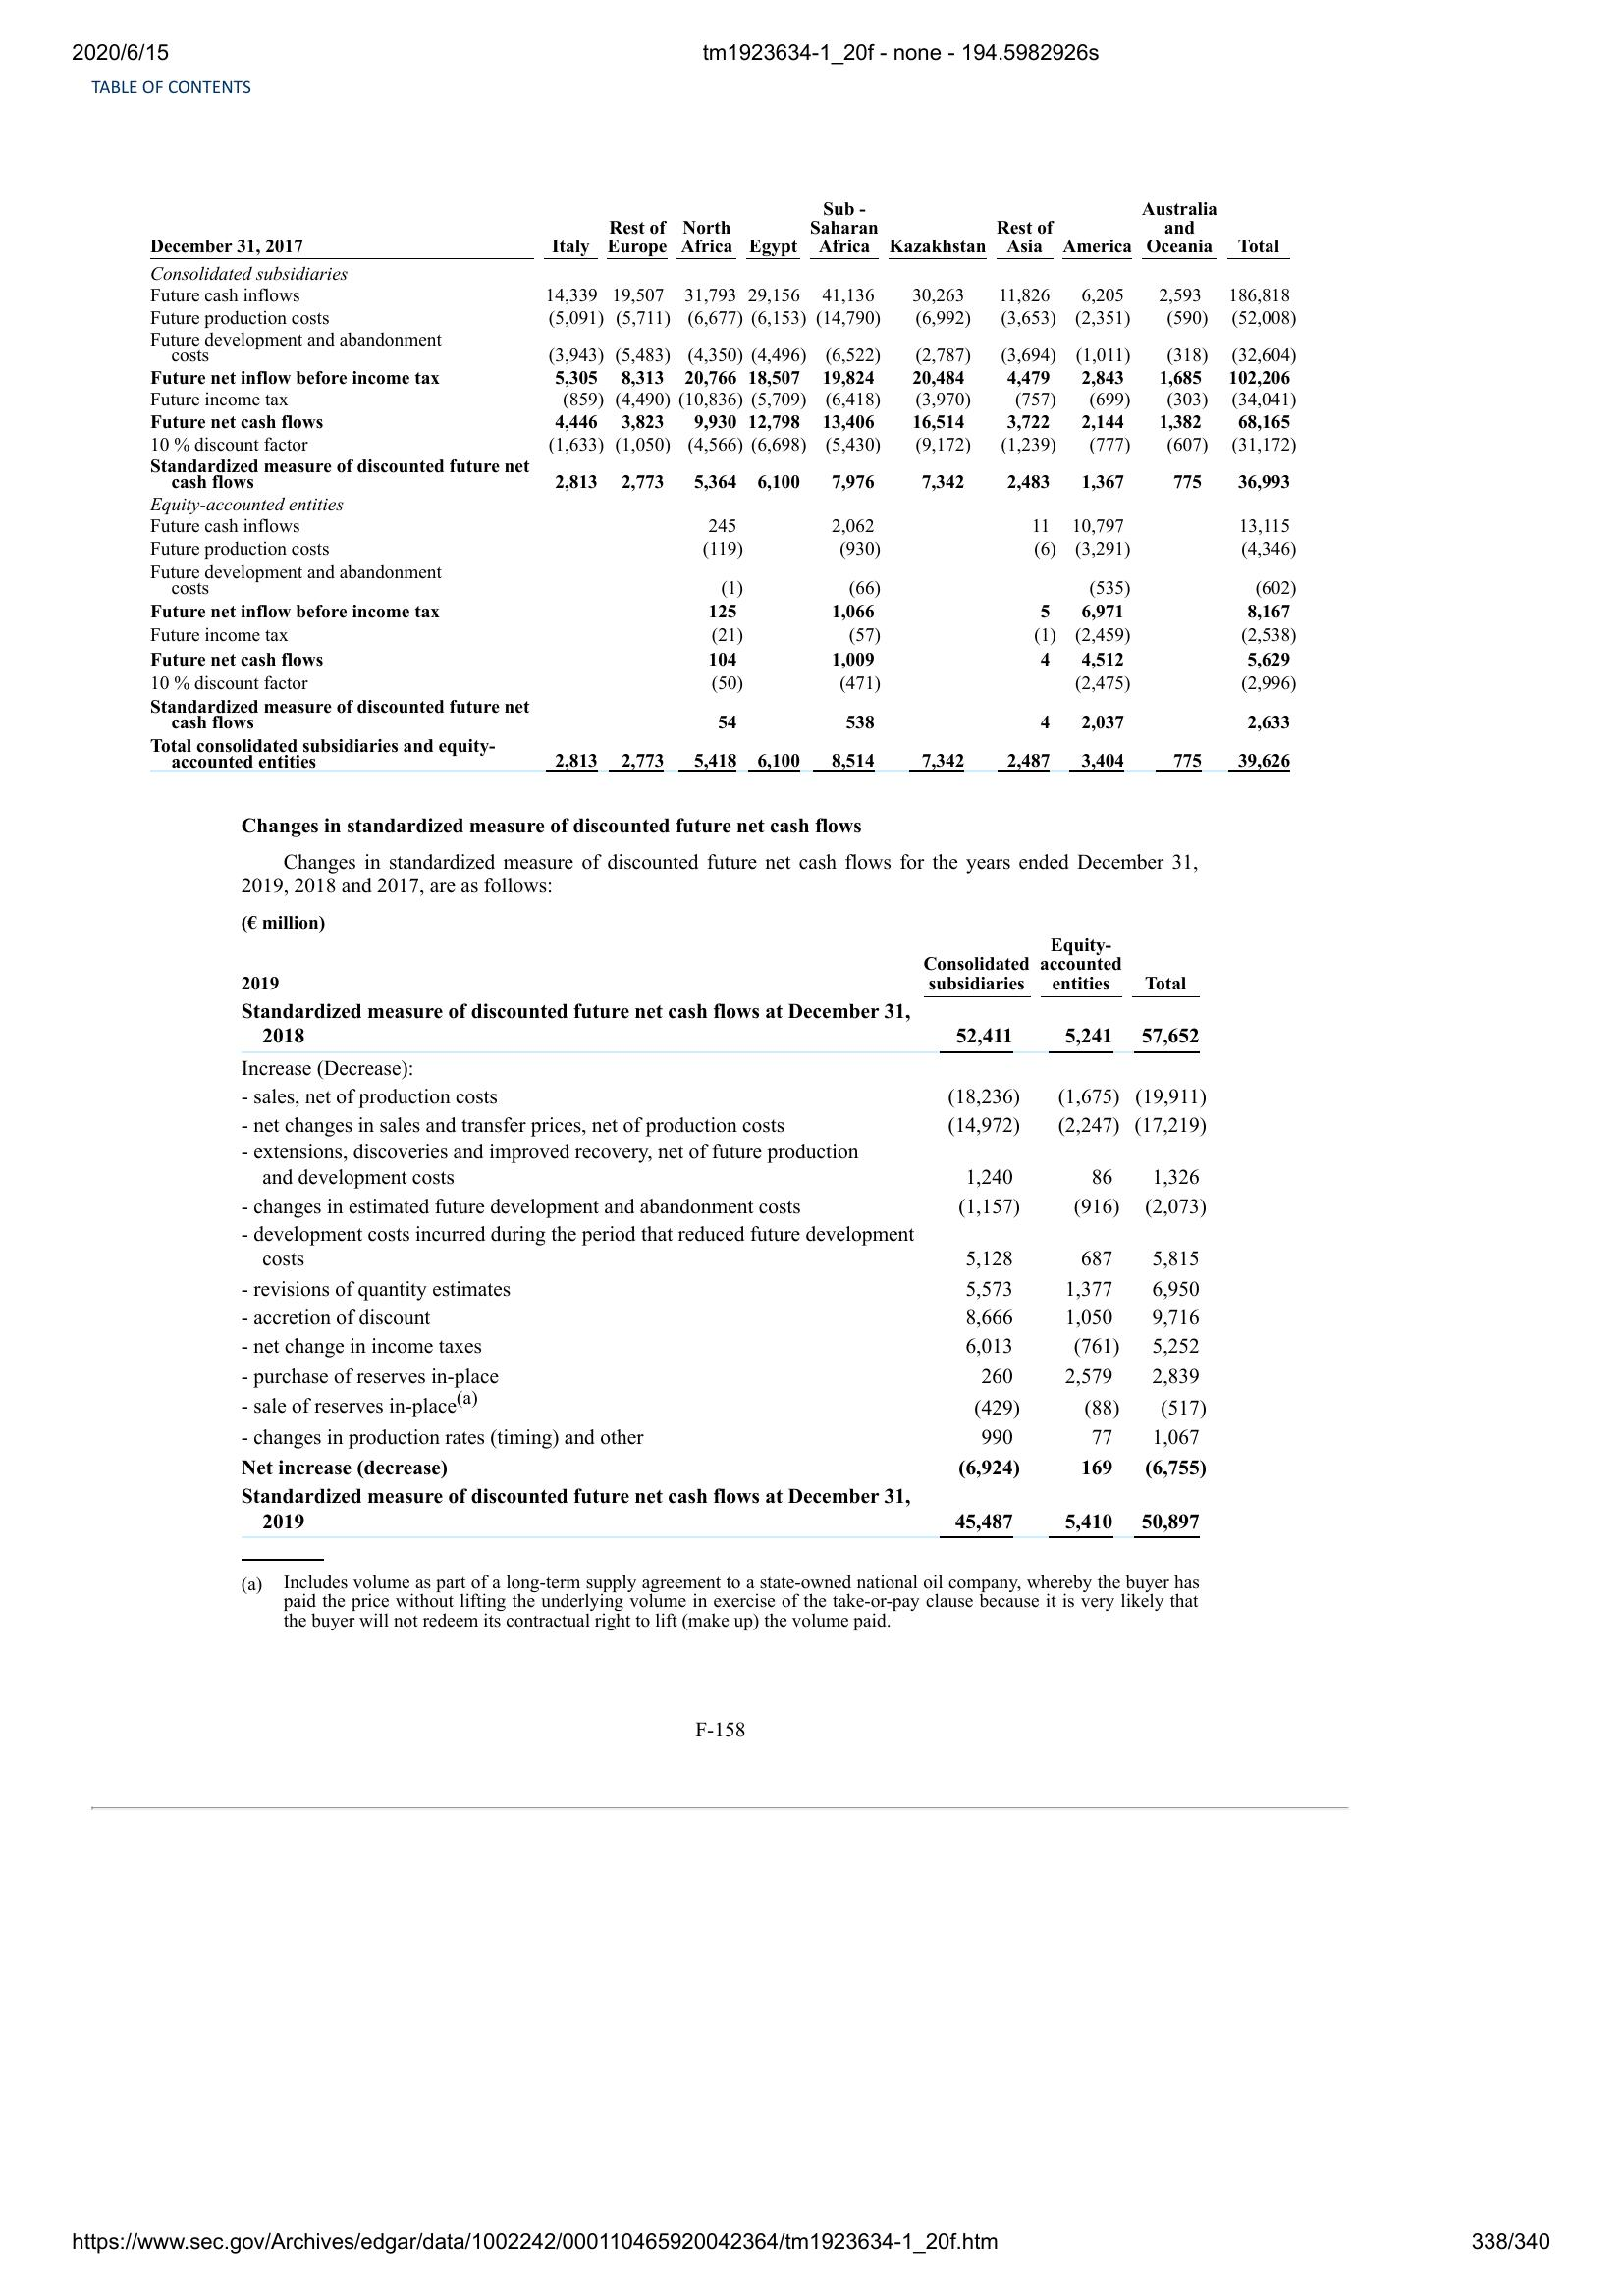table: (146, 198, 1300, 778), (237, 932, 1210, 1546)
